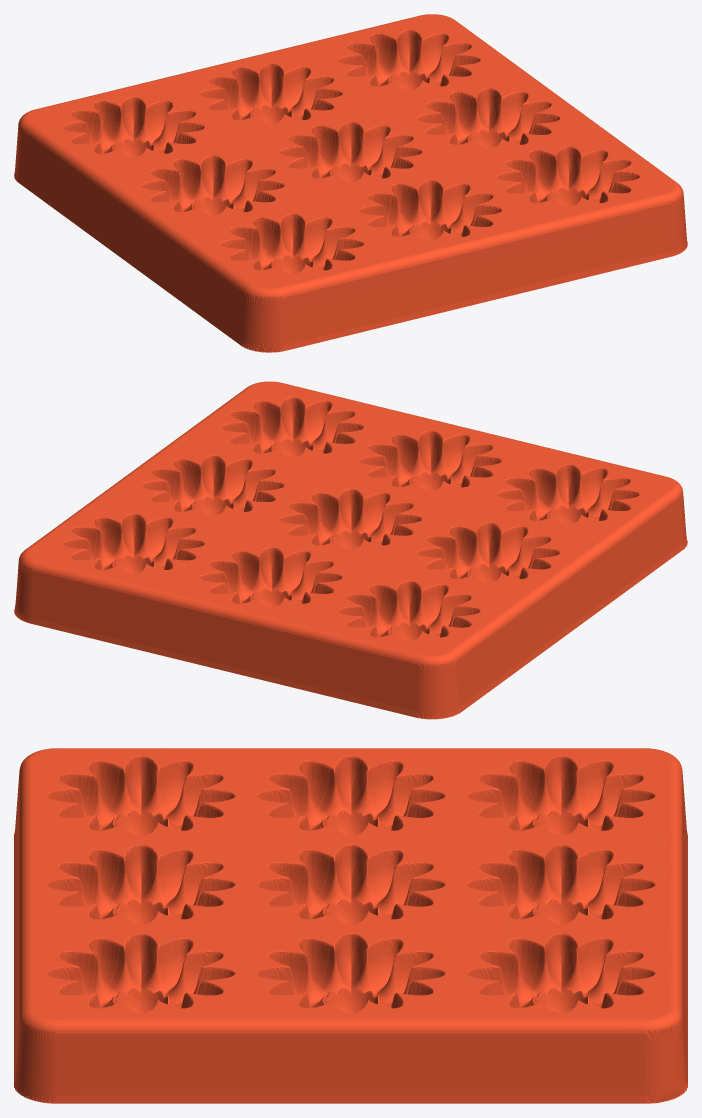
Rendered from mold.glb.
3 views of the same model, one above another, from view 1: azimuth 30°, elevation 25°; view 2: azimuth 150°, elevation 25°; view 3: azimuth 270°, elevation 25° (orthographic). The views are drawn at different scales.
Parts seen in each view (by area): view 1: geometry_0; view 2: geometry_0; view 3: geometry_0.
Boxes of the visible parts, bbox=[...] form: geometry_0: bbox=[14, 14, 687, 352]; geometry_0: bbox=[14, 381, 687, 719]; geometry_0: bbox=[14, 748, 687, 1103].
Bounding box in the file's own units: 0.1387 × 0.0175 × 0.1387.
